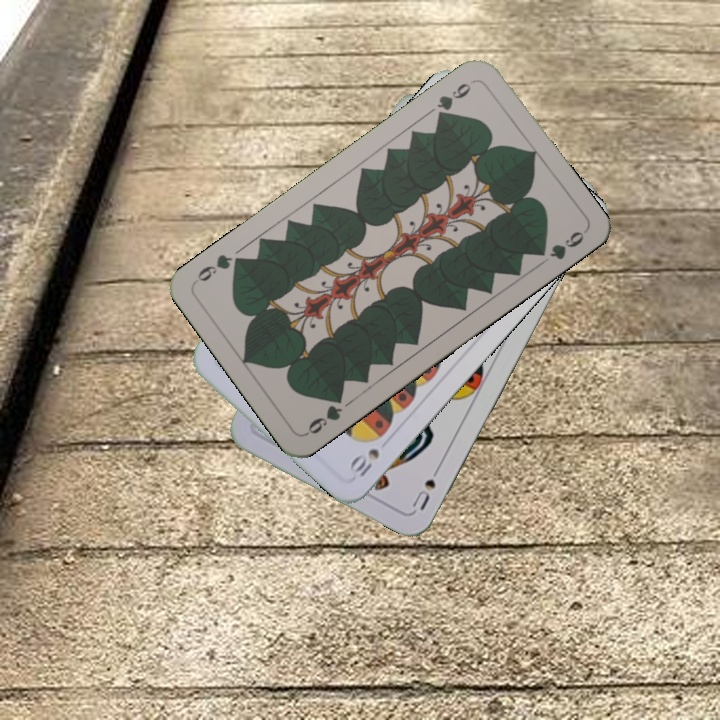G9: (432, 76, 478, 123), (301, 390, 346, 438)
S10: (344, 444, 382, 480)
SU: (408, 458, 445, 513)
